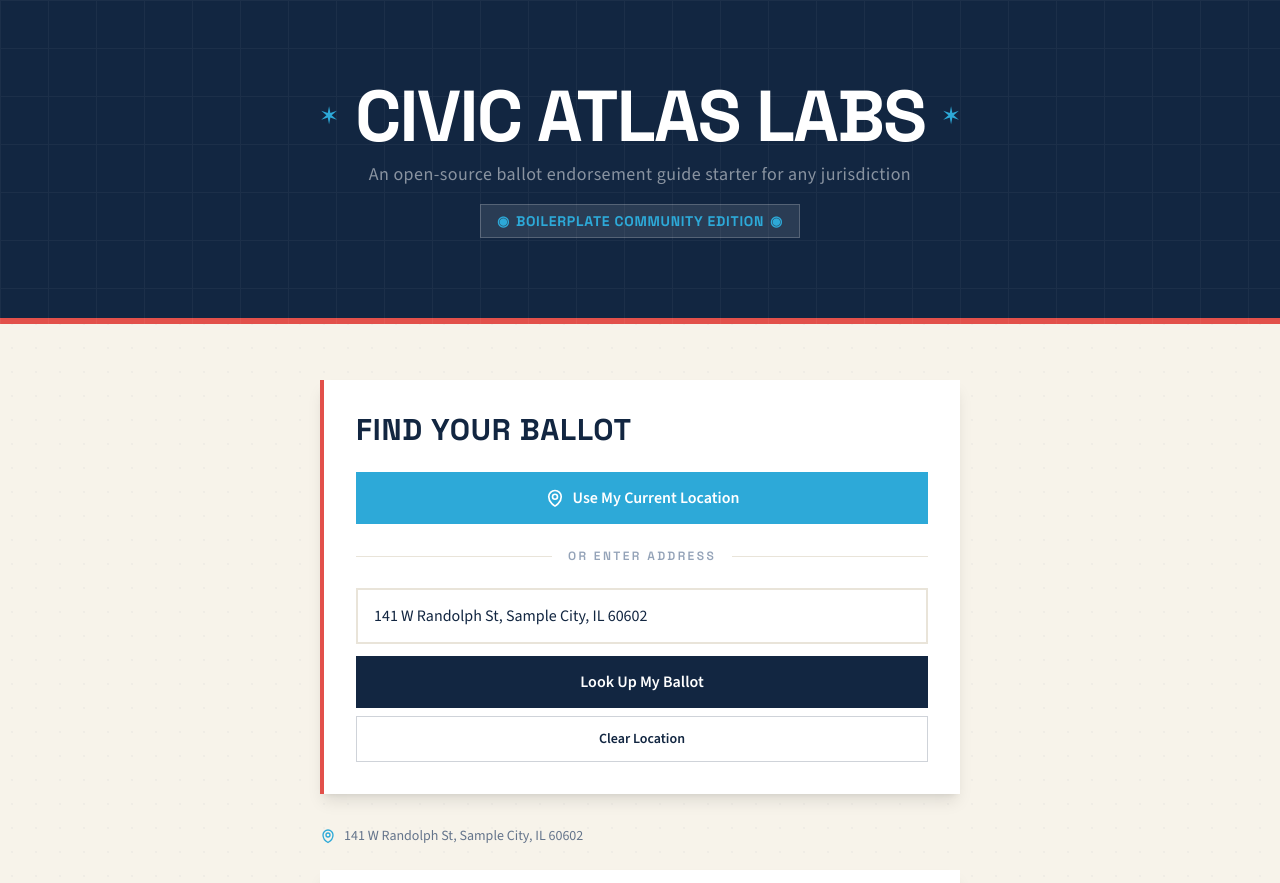
it: Shareable URL Behavior › clears url and resets shown location details when Clear Location is clicked
Expected: the text "141 W Randolph St, Sample City, IL 60602" is shown, [344,826,583,846]
Click the button "Clear Location" at {"x": 642, "y": 739}, box [356,716,928,762]
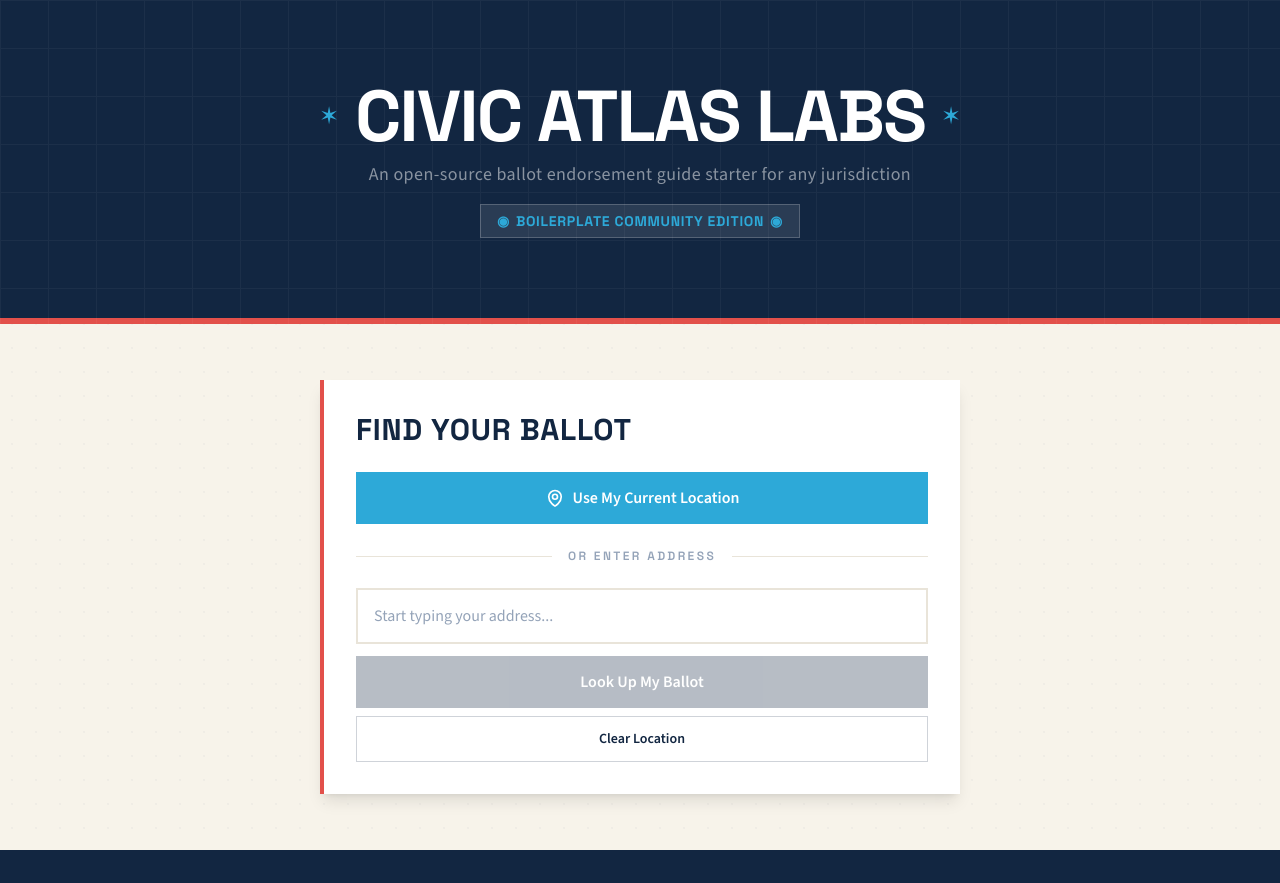
Expected: the text "141 W Randolph St, Sample City, IL 60602" is gone
Expected: the field with placeholder "Start typing your address..." is empty, [356,588,928,644]
